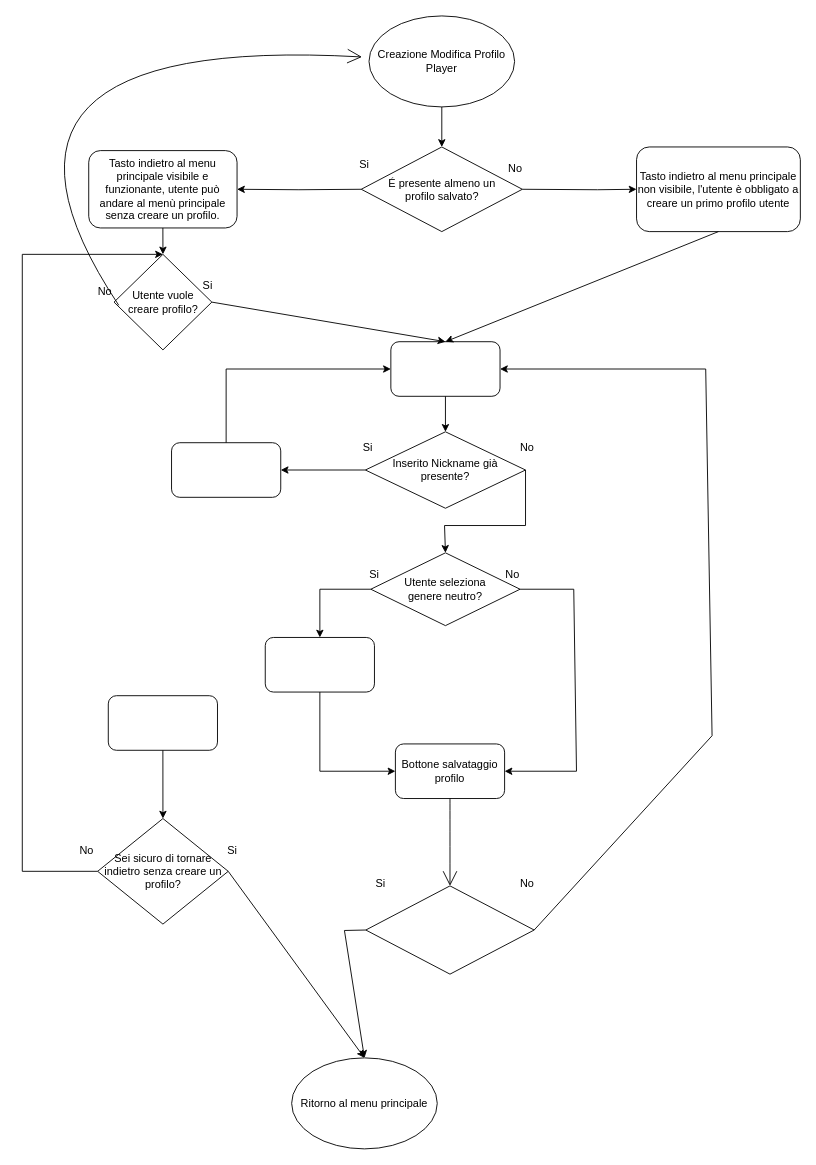
Some shapes in this 816 by 1165 pixel diagram are drawn without their labels. Here are the shapes that lost their labels. From the top down, the centre of each, then its label:
(x=445, y=368): Utente crea profilo
(x=226, y=469): Visualizza avviso nome utente già preso
(x=319, y=664): Visualizza menu a tendina scelta modello 3D giocatore
(x=162, y=722): Click Tasto Indietro
(x=449, y=929): Sicuro di volere salvare le modifiche e tornare al menu principale?
